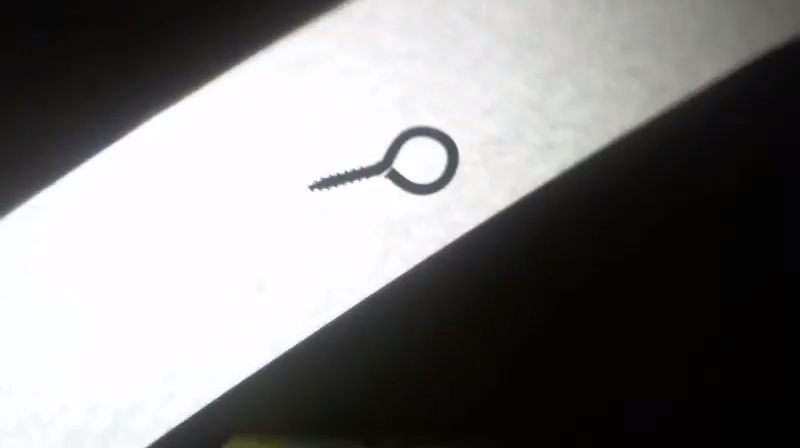O001: (303, 123, 461, 199)
